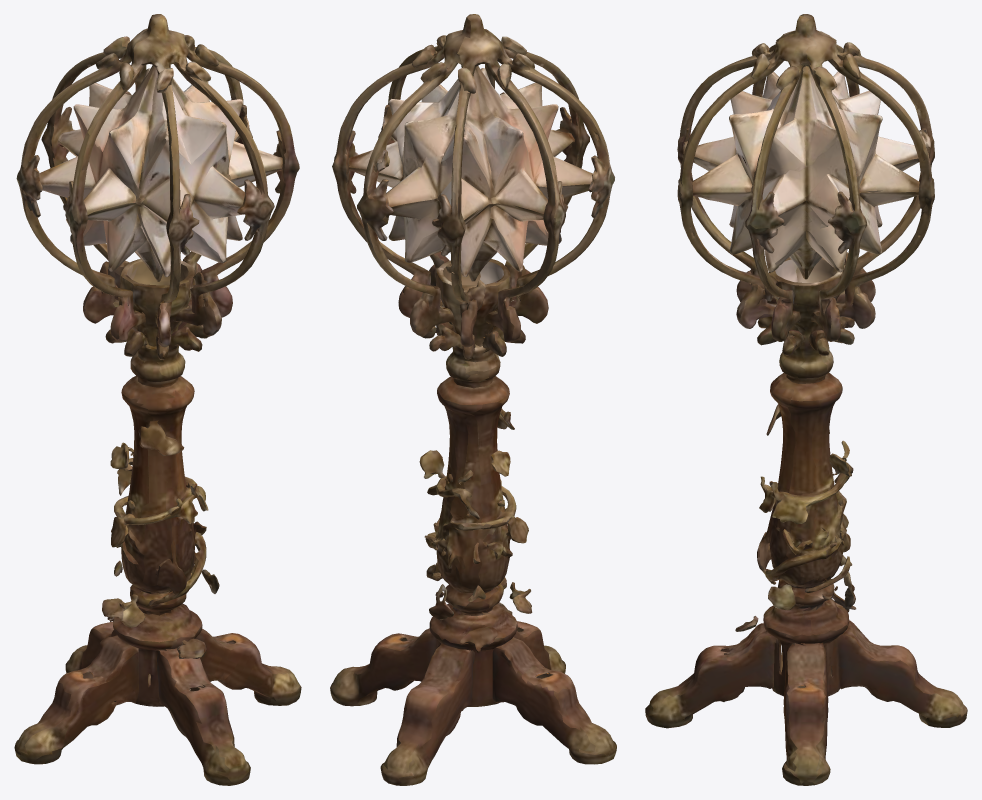
The model's file is star-lantern.glb.
3 renders of one model, left to right at view 1: azimuth 30°, elevation 25°; view 2: azimuth 150°, elevation 25°; view 3: azimuth 270°, elevation 25°, orthographic.
Visible parts, largest first — view 1: geometry_0; view 2: geometry_0; view 3: geometry_0.
Part boxes in pixels (<box>): geometry_0: <box>14,14,301,785</box>; geometry_0: <box>330,14,616,785</box>; geometry_0: <box>645,14,967,785</box>.
Bounding box in the file's own units: 0.3734 × 0.9 × 0.3738.
Materials: 1 (1 with a texture image).
